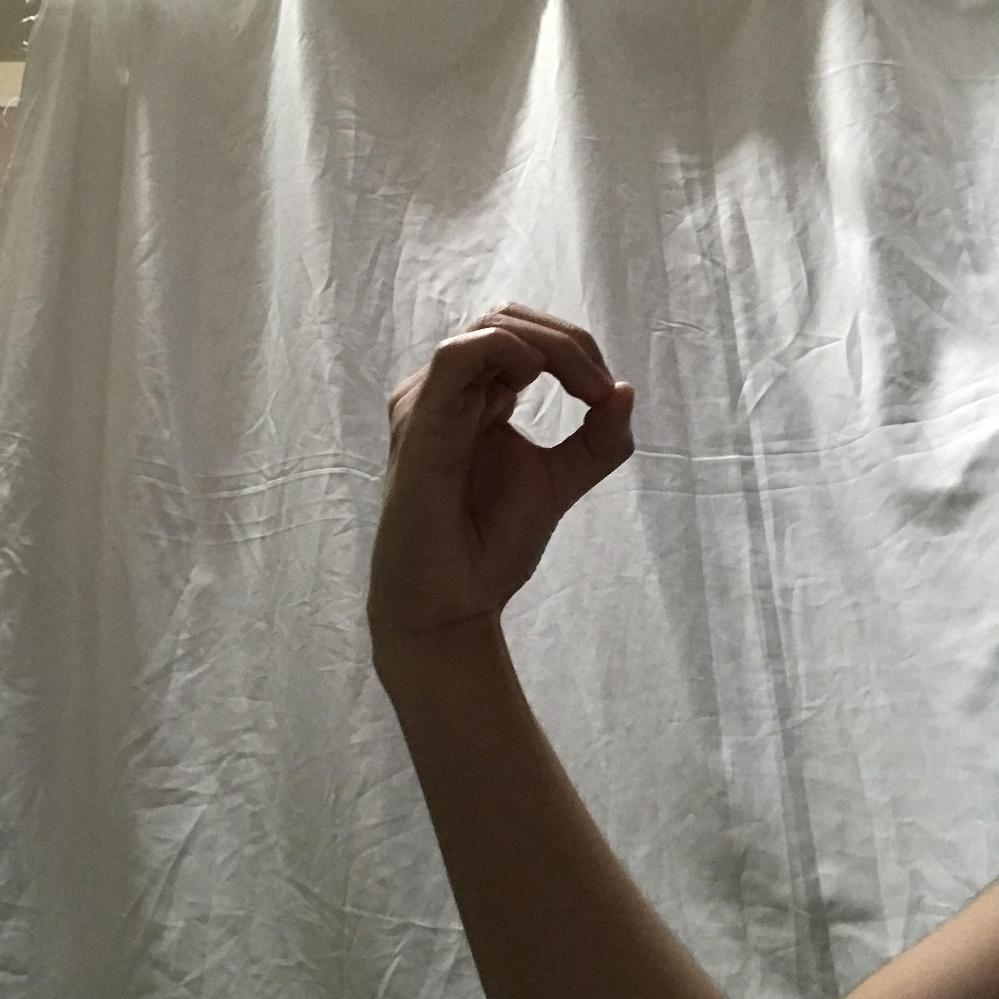o: (372, 304, 638, 618)
